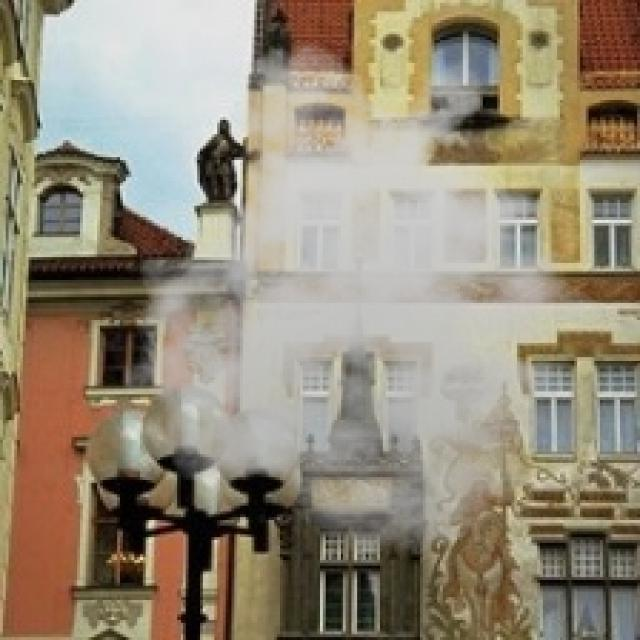Smoke: (108, 39, 623, 554)
